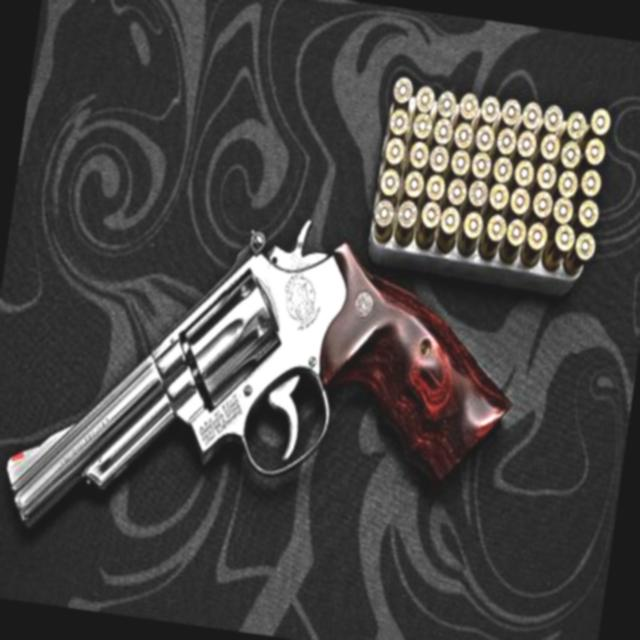revolver: (0, 173, 544, 640)
